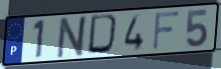1: (31, 18, 47, 61)
4: (123, 13, 146, 52)
5: (185, 7, 210, 49)
D: (86, 13, 122, 57)
F: (151, 9, 182, 52)
N: (55, 14, 91, 60)
